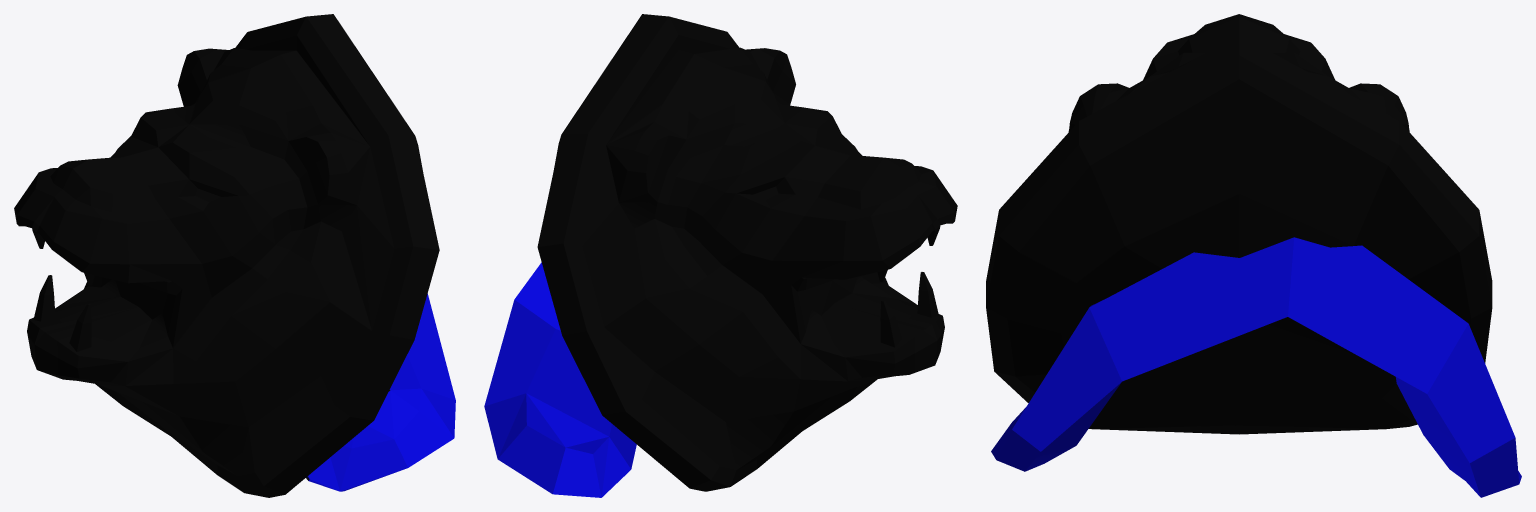
File: Chr_ShoulderAttachRight_Static_18.fbx
The picture shows the model from 3 angles, left to right: view 1: azimuth 30°, elevation 25°; view 2: azimuth 150°, elevation 25°; view 3: azimuth 270°, elevation 25°; orthographic projection. The views are drawn at different scales.
Visible parts, largest first — view 1: Chr_ShoulderAttachRight_18; view 2: Chr_ShoulderAttachRight_18; view 3: Chr_ShoulderAttachRight_18.
Part boxes in pixels (x1=…): Chr_ShoulderAttachRight_18: x1=14, y1=14, x2=455, y2=497; Chr_ShoulderAttachRight_18: x1=484, y1=14, x2=957, y2=497; Chr_ShoulderAttachRight_18: x1=986, y1=14, x2=1521, y2=497.
Bounding box in the file's own units: 27.54 × 30.46 × 32.27.
